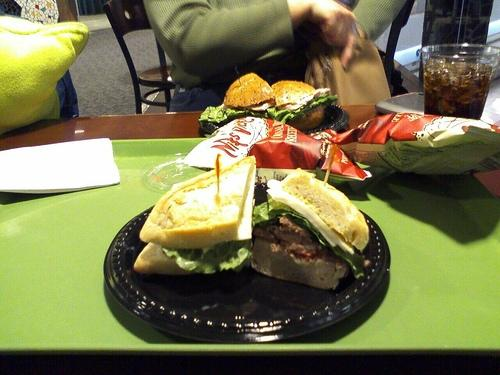lettuce: (267, 193, 364, 279), (162, 238, 252, 275), (272, 110, 290, 120)
